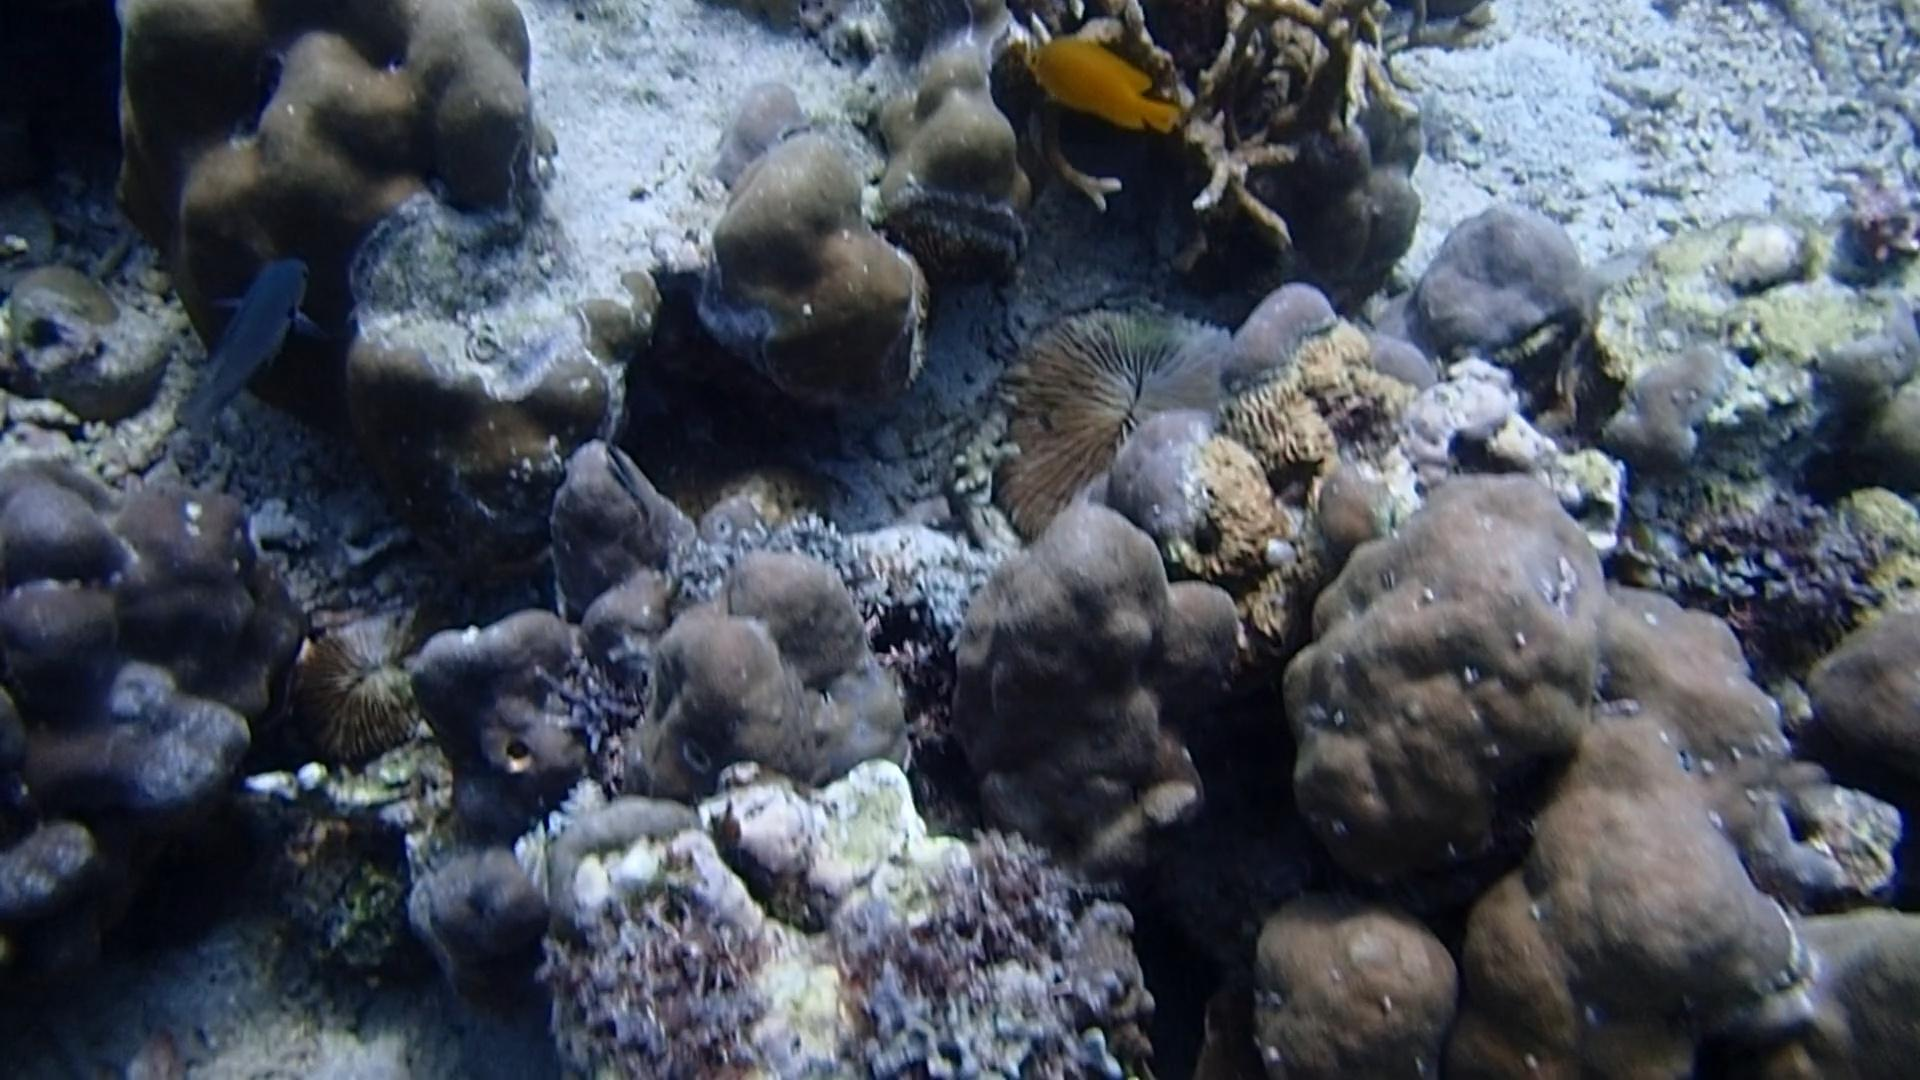Blue Fish Two: (178, 251, 322, 433)
Yellow Fish: (1002, 26, 1189, 142)
